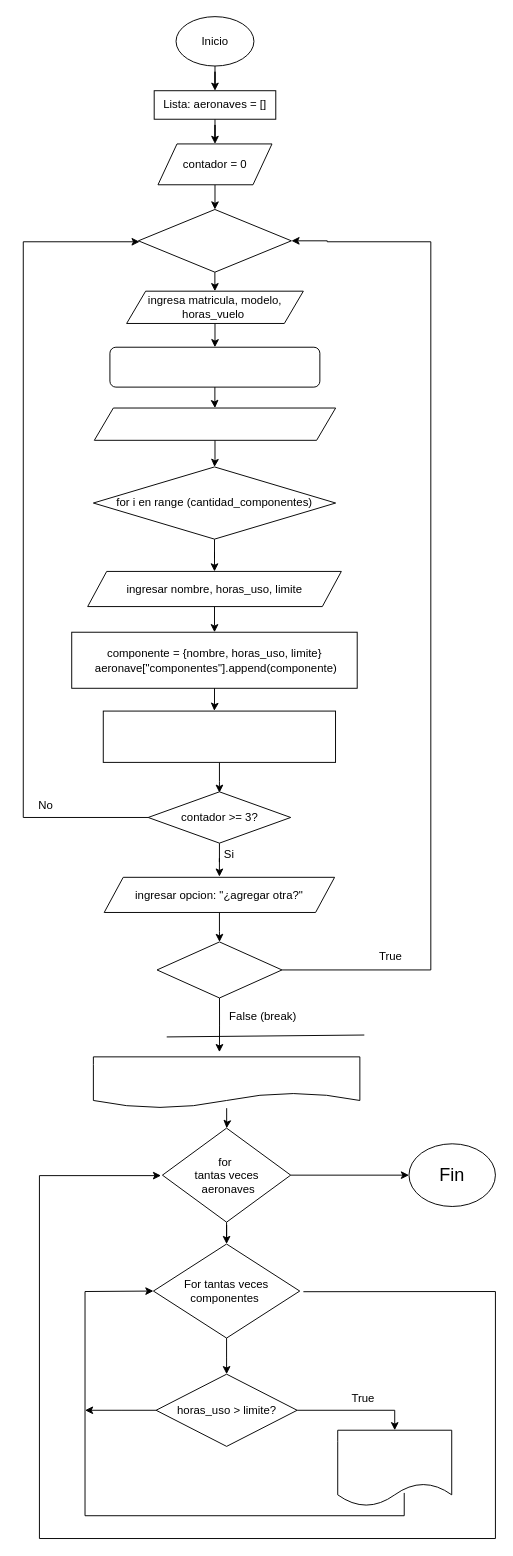
This 513x1556 diagram has some shape labels left out. Here are the shapes that lost their labels. From the top down, the centre of each, then its label:
pixel 214 240: mientras verdadero
pixel 214 366: aeronave = {matricula, modelo, horas_vuelo, componentes:[]}
pixel 214 423: ingresar cantidad_componentes
pixel 219 736: aeronaves.append(aeronave) contador = contador + 1
pixel 219 969: opcion == "si"?
pixel 226 1082: "REPORTE DE MANTENIMIENTO"
pixel 394 1467: "Mantenimiento requerido" matricula, modelo, componente, horas_uso, limite
